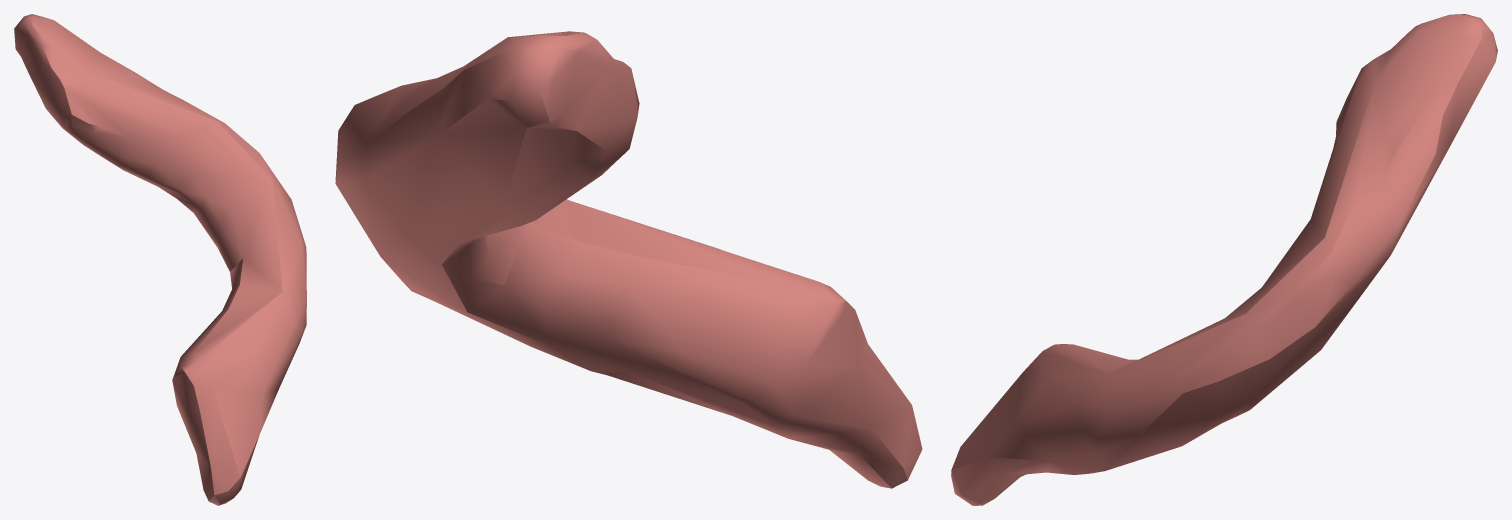
The model's file is fma21930_fj2543.glb.
The picture shows the model from 3 angles, left to right: view 1: azimuth 30°, elevation 25°; view 2: azimuth 150°, elevation 25°; view 3: azimuth 270°, elevation 25°; orthographic projection. The views are drawn at different scales.
Visible parts, largest first — view 1: FMA21930_FJ2543; view 2: FMA21930_FJ2543; view 3: FMA21930_FJ2543.
Boxes of the visible parts, x1=… form: FMA21930_FJ2543: x1=14, y1=14, x2=306, y2=505; FMA21930_FJ2543: x1=335, y1=31, x2=922, y2=488; FMA21930_FJ2543: x1=951, y1=14, x2=1497, y2=505.
Size of the model in its own units: 0.0116 by 0.0213 by 0.0217.
